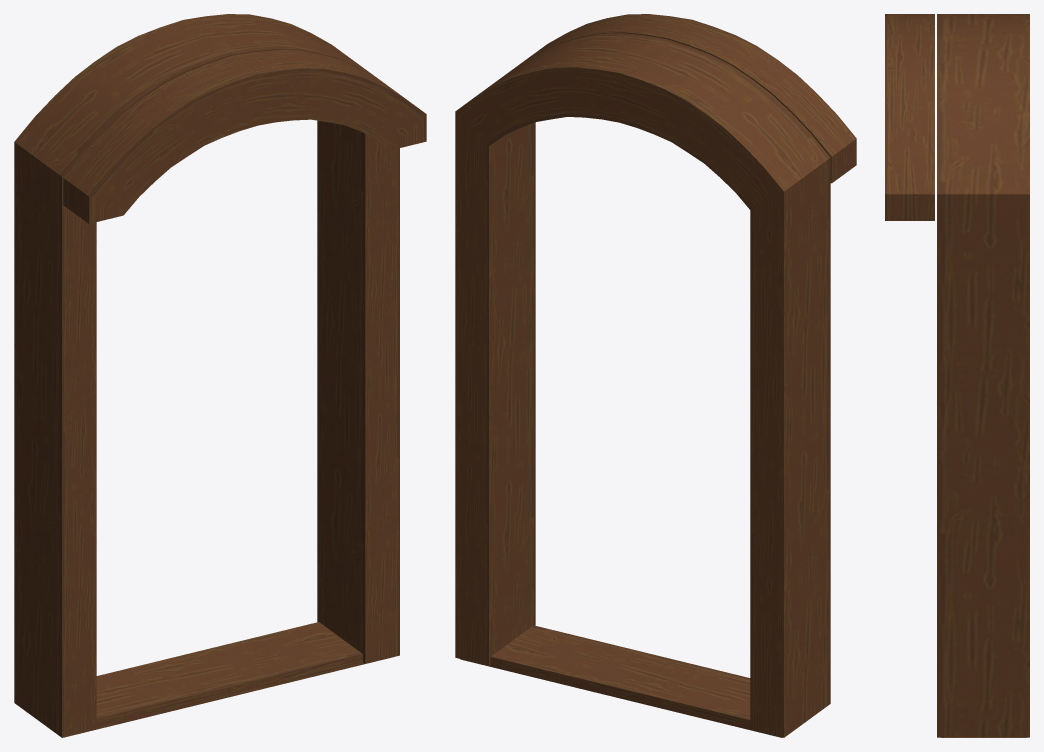
File: DoorFrame_Round_WoodDark.glb
The picture shows the model from 3 angles, left to right: view 1: azimuth 30°, elevation 25°; view 2: azimuth 150°, elevation 25°; view 3: azimuth 270°, elevation 25°; orthographic projection. The views are drawn at different scales.
Parts seen in each view (by area): view 1: DoorFrame_Round_WoodDark; view 2: DoorFrame_Round_WoodDark; view 3: DoorFrame_Round_WoodDark.
Boxes of the visible parts, <box> form: DoorFrame_Round_WoodDark: <box>14,14,426,737</box>; DoorFrame_Round_WoodDark: <box>455,14,856,737</box>; DoorFrame_Round_WoodDark: <box>885,14,1029,737</box>.
Size of the model in its own units: 1.41 by 2.56 by 0.539.
Materials: 1 (1 with a texture image).
